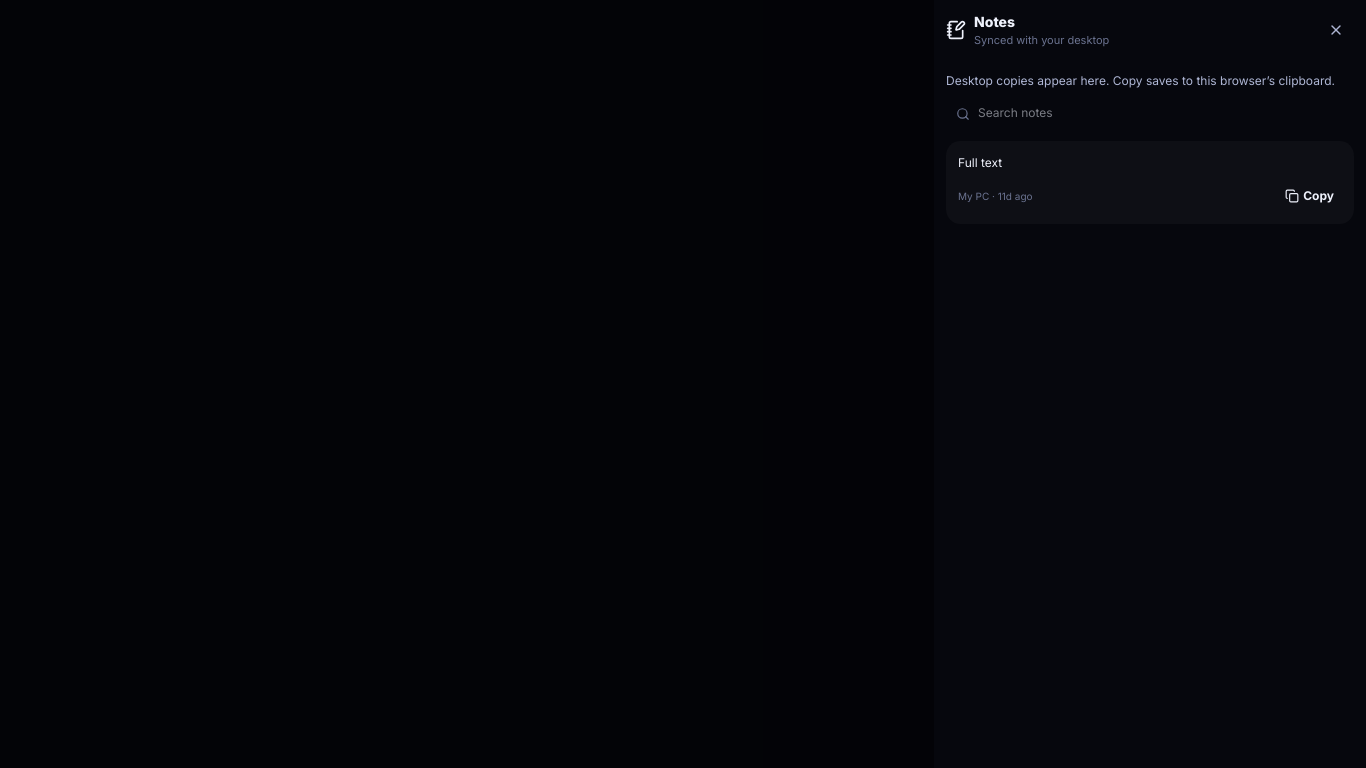
Test: exposes selectable full text after a failed copy and never says Copied
The width and height of the screenshot is (1366, 768).
What coordinates should you click on to do the following:
click the button with aria-label "Copy note"
I would click on:
 (1310, 196)
Its box is [1277,180,1342,212].
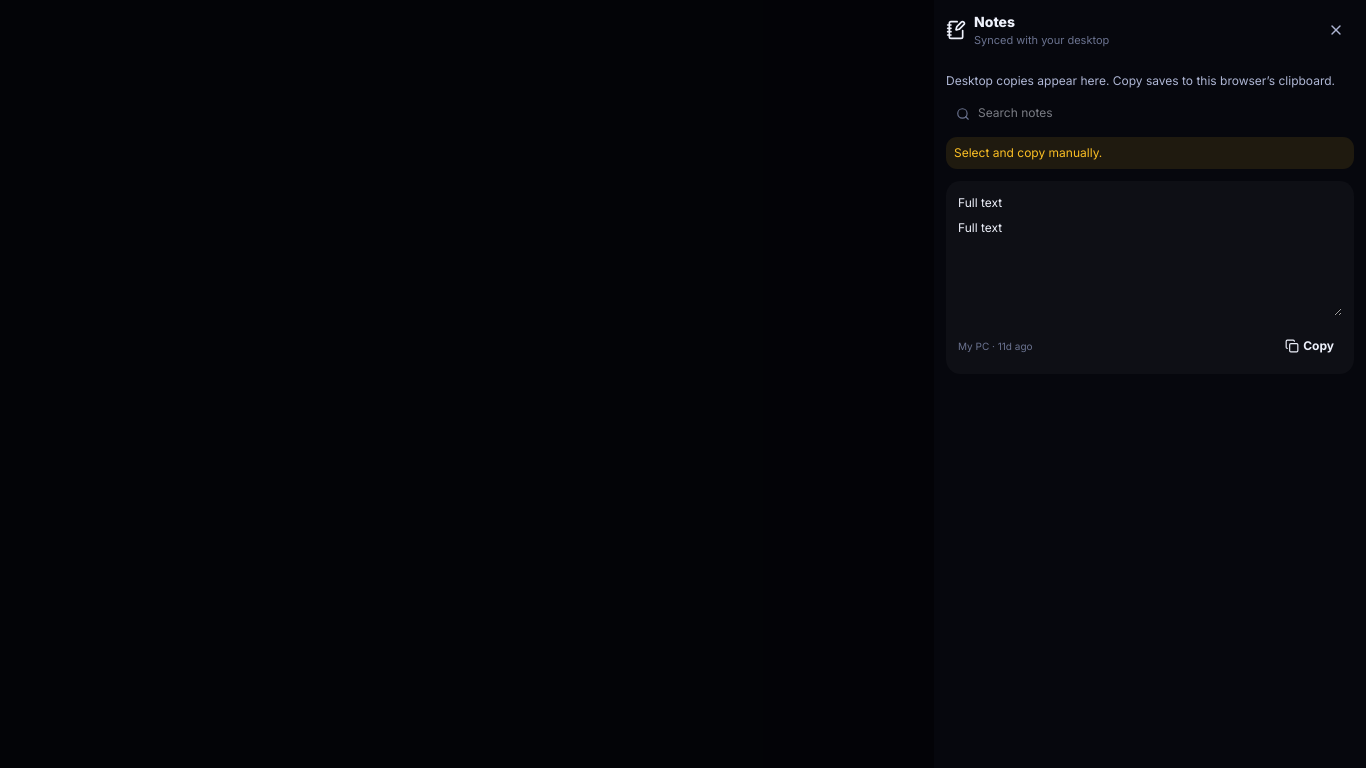
Now the message "Select and copy manually." is shown, box [946,136,1354,168]
Now the text box named "Select note text to copy" holds "Full text", box [958,220,1342,316]
